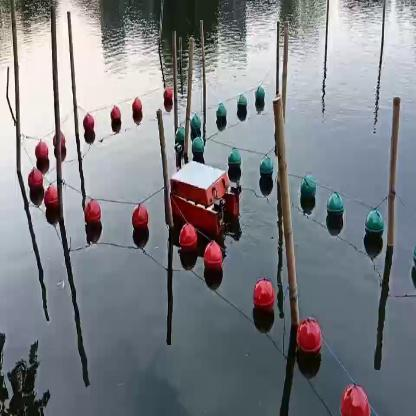green_buoy: (326, 189, 346, 227), (364, 205, 382, 246), (302, 174, 316, 210), (229, 146, 245, 176), (262, 156, 276, 187), (194, 135, 204, 161), (216, 104, 226, 128), (237, 96, 248, 113), (176, 121, 184, 144), (256, 83, 264, 104), (193, 114, 201, 132)
red_buoy: (249, 280, 276, 320), (298, 320, 320, 360), (342, 379, 370, 410), (204, 237, 221, 278), (180, 223, 197, 257), (26, 166, 44, 196), (132, 206, 150, 234), (44, 185, 58, 217), (86, 202, 102, 229), (33, 143, 47, 163), (164, 86, 176, 107), (132, 96, 142, 121), (110, 104, 120, 128), (86, 114, 94, 141)
